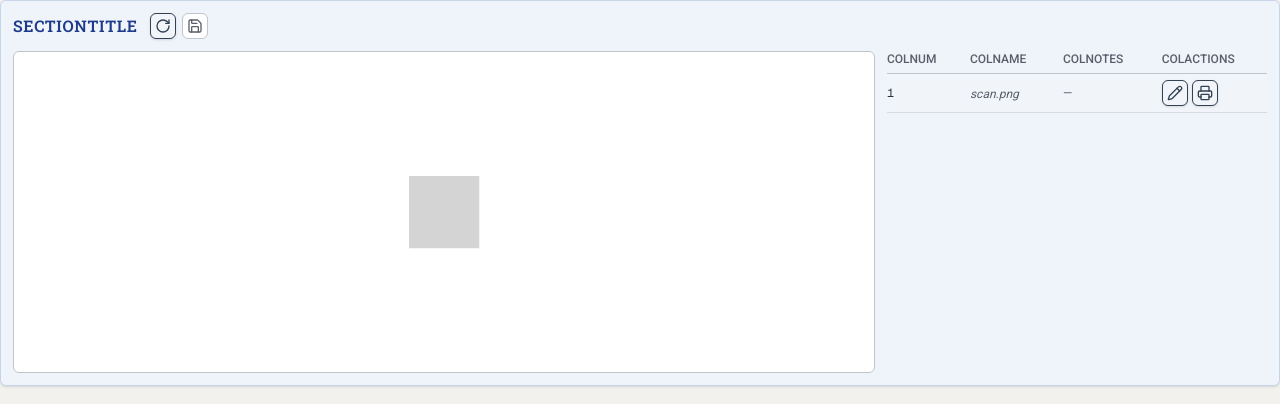
Test: the turn in the „Pagini” tile › saves the turn shown through the page's route; then it is the stored one
The width and height of the screenshot is (1280, 404).
Click the button named "rotateRight": (163,26) [150,13,176,39]
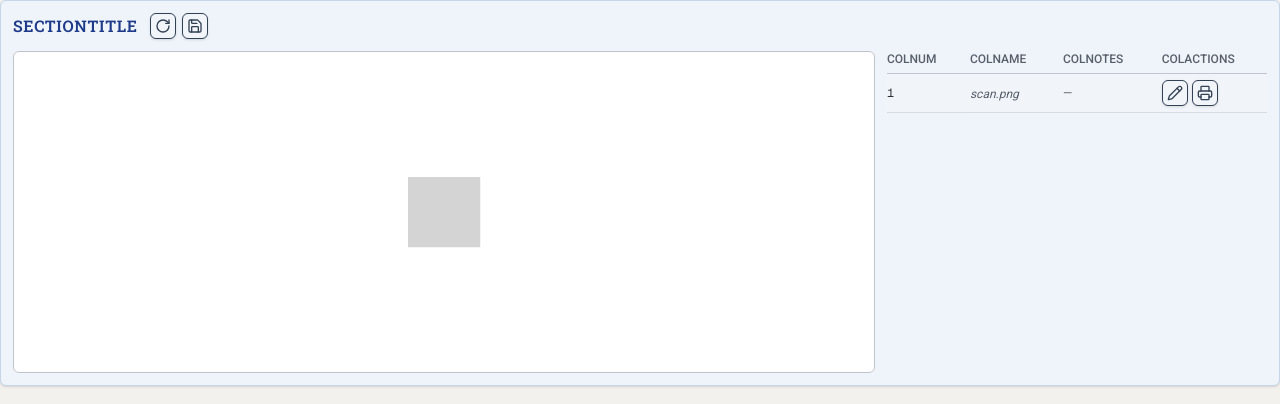
Check: the button named "saveRotation" is enabled
Click the button named "saveRotation": (195,26) [182,13,208,39]
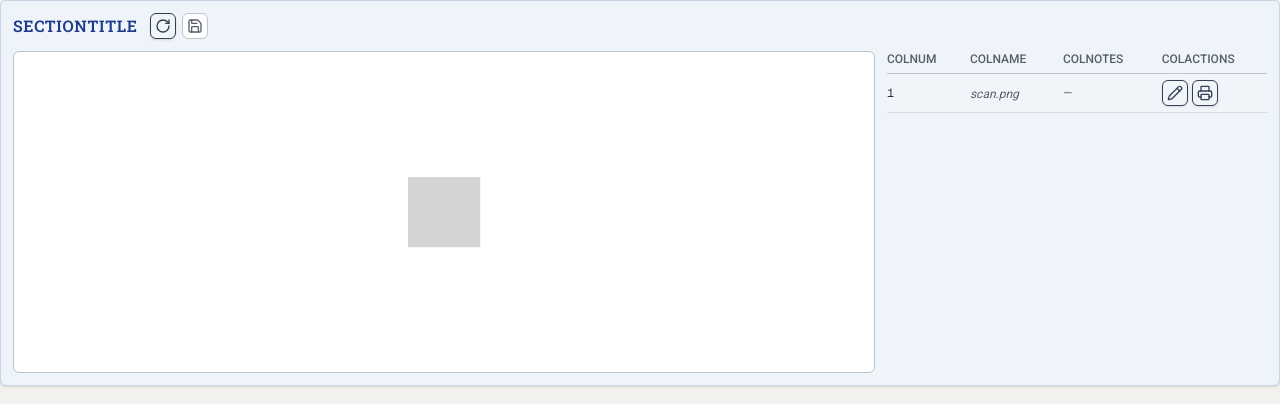
Check: the button named "saveRotation" is disabled, box [182,13,208,39]
